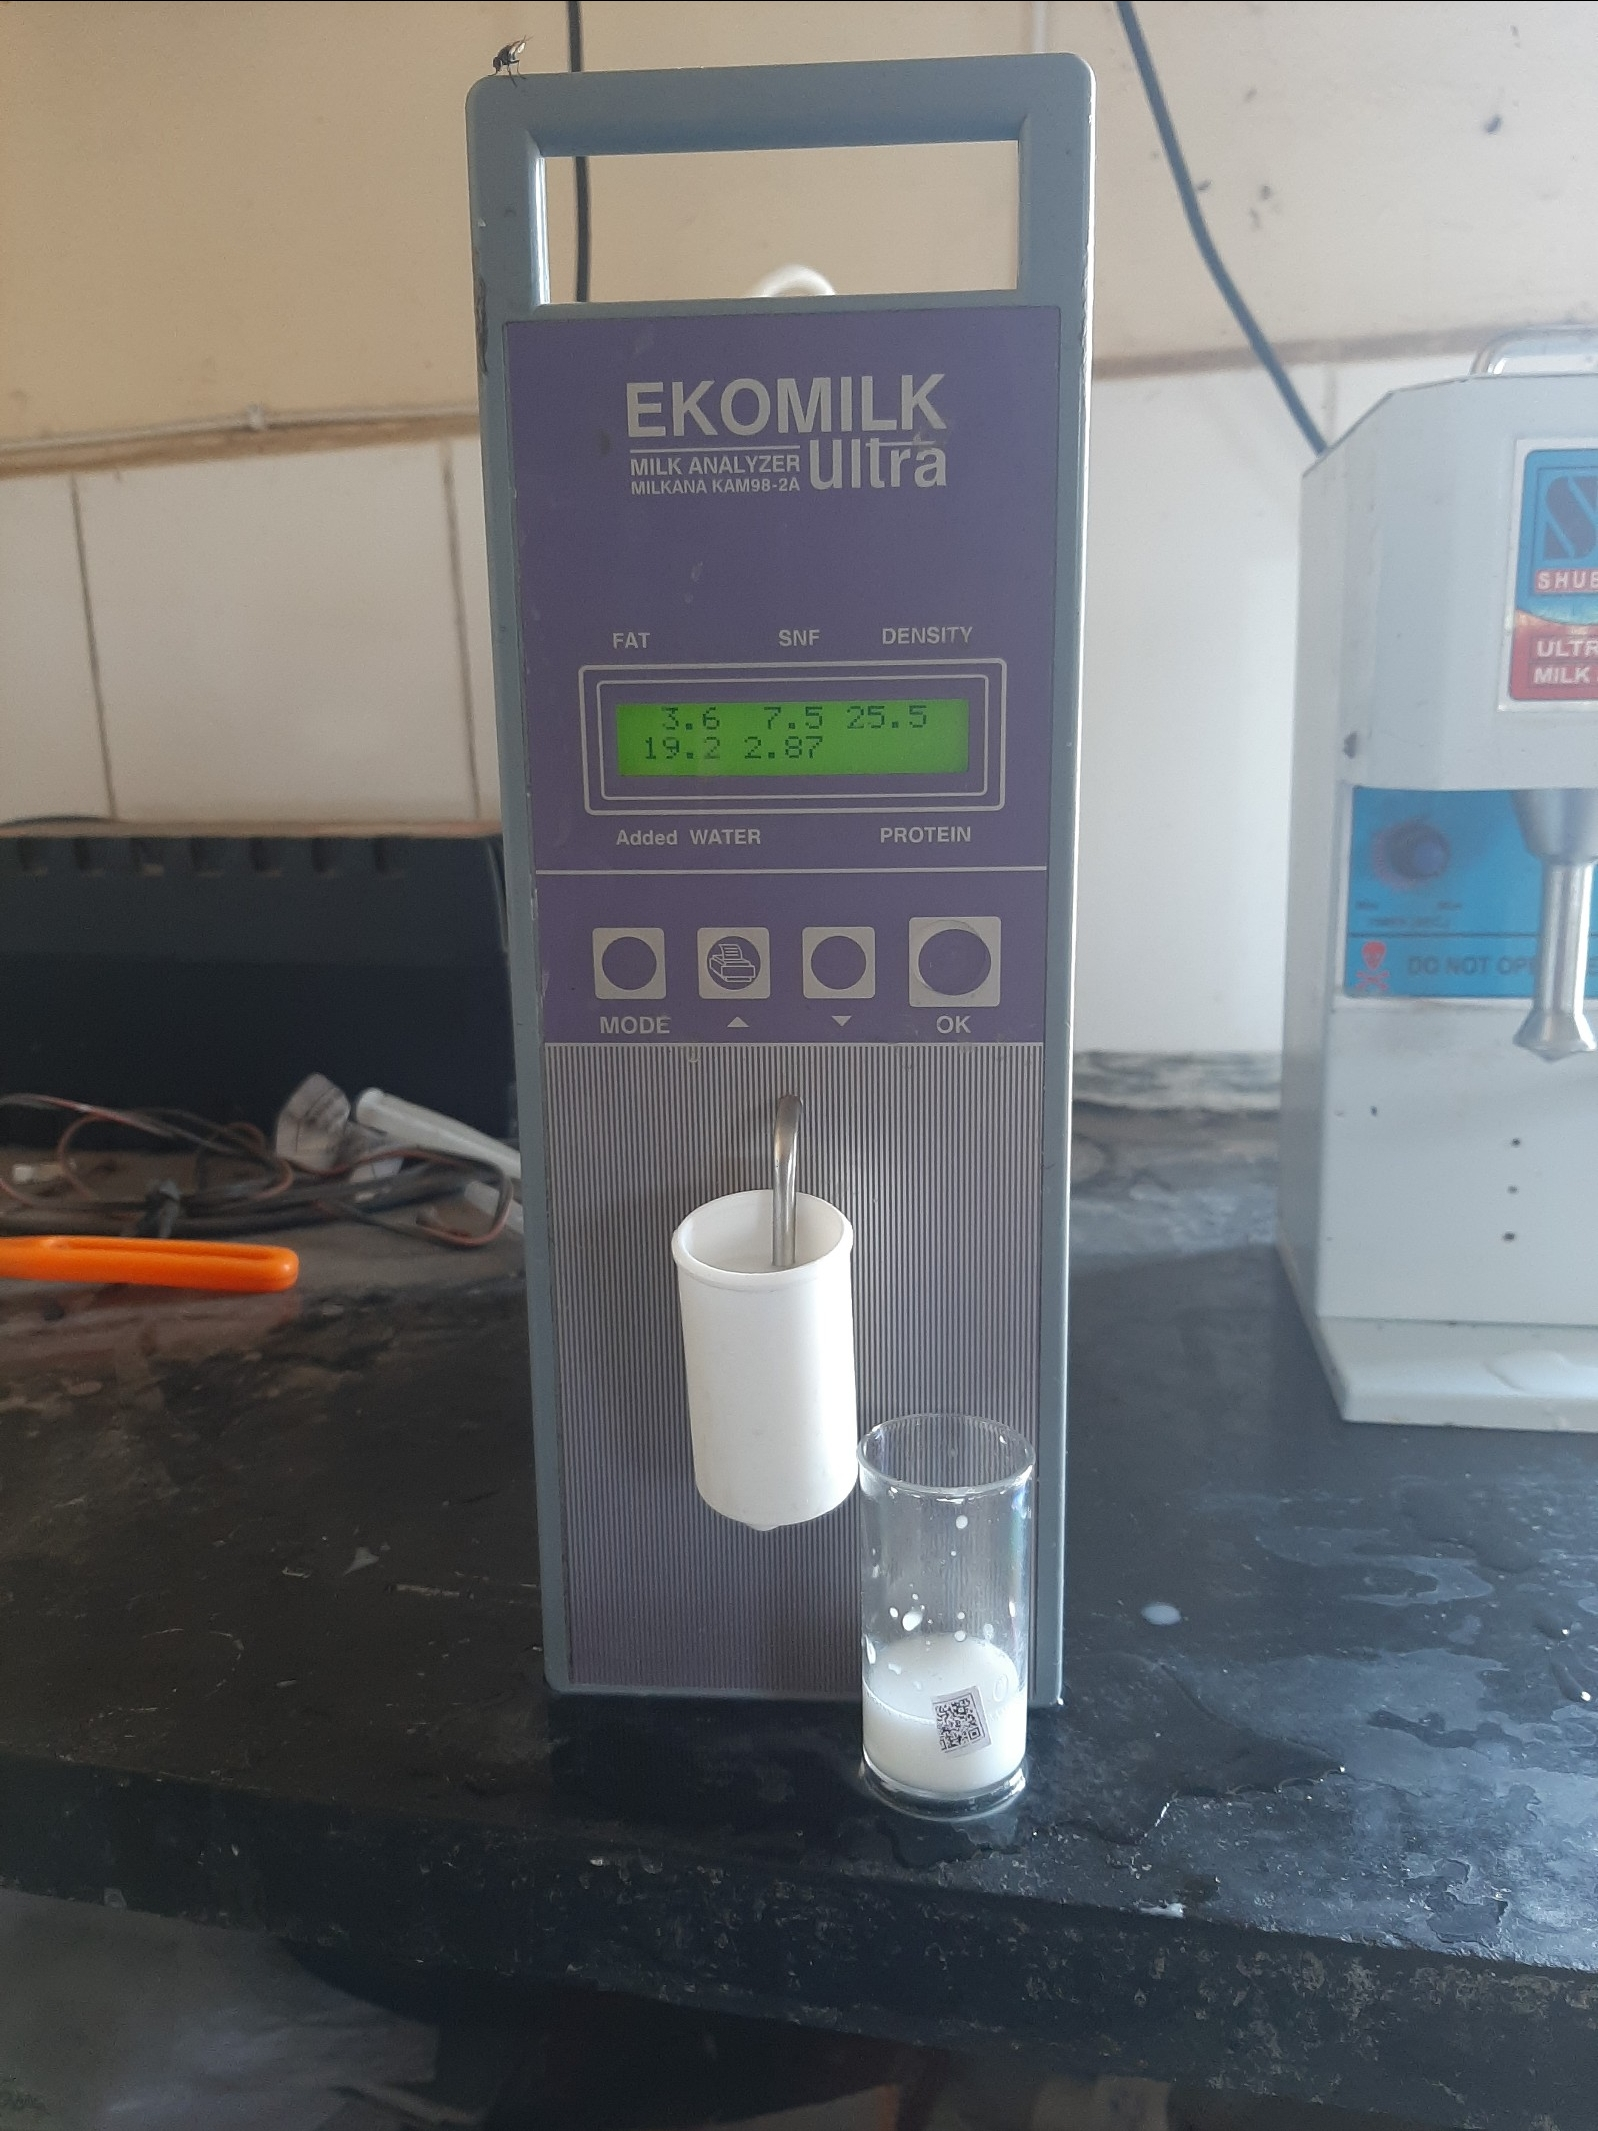lcd: (598, 686, 980, 797)
qr: (932, 1686, 997, 1758)
